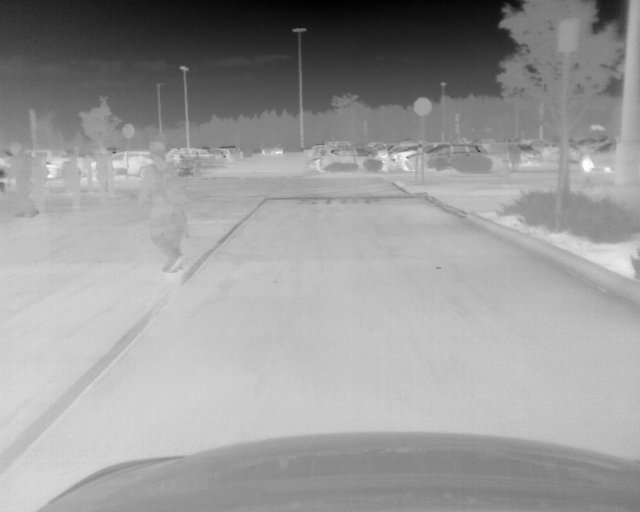car: (405, 144, 488, 170), (320, 148, 390, 173), (582, 144, 617, 181), (394, 144, 439, 172), (95, 152, 152, 174), (193, 147, 227, 160), (521, 143, 542, 164), (260, 144, 284, 154)
people: (137, 141, 189, 270), (9, 142, 40, 218), (175, 206, 190, 271), (507, 142, 523, 171), (194, 153, 201, 178)
